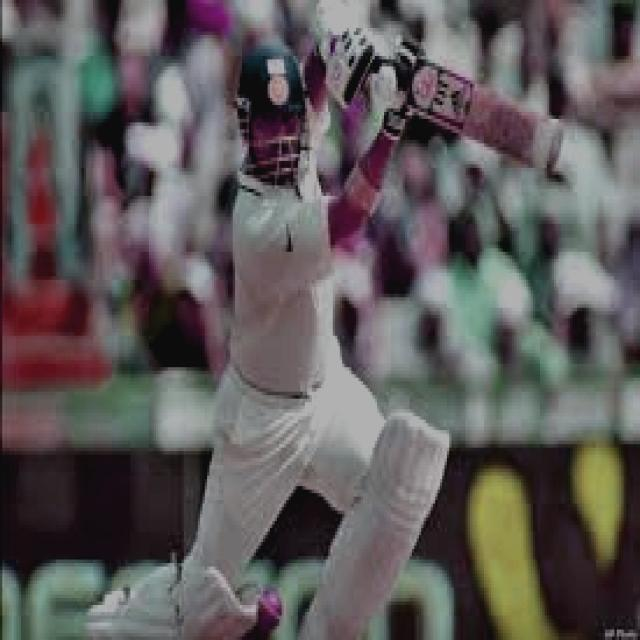bat: (394, 58, 574, 182)
toe: (543, 119, 565, 174)
